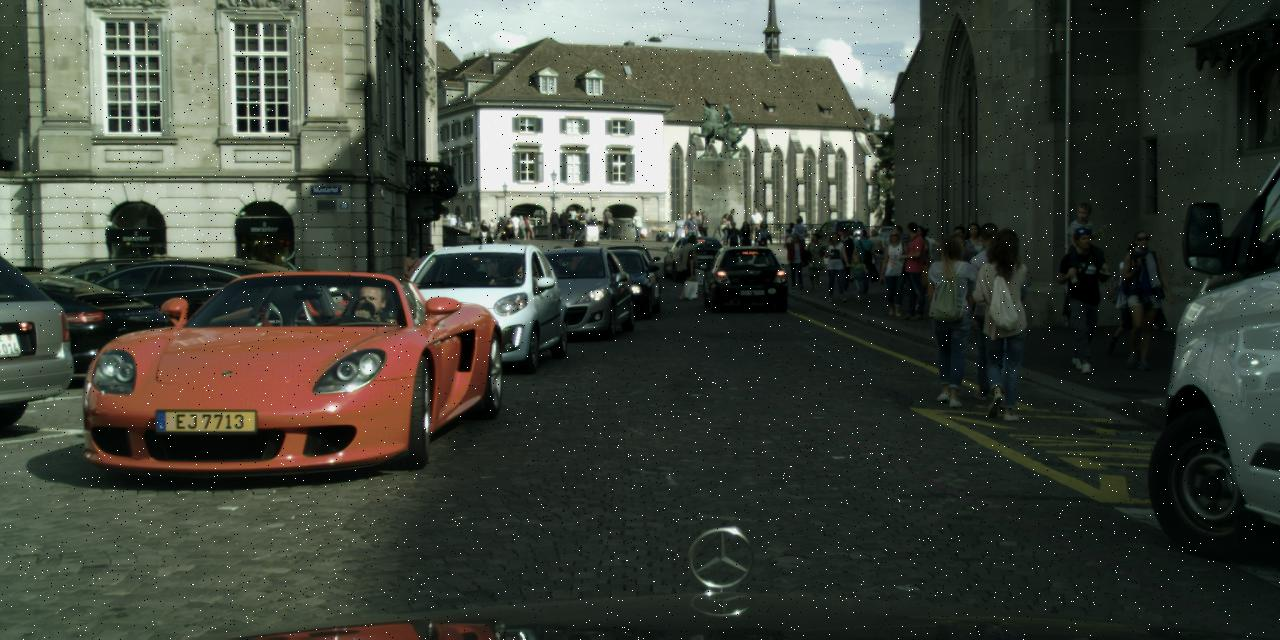ped: (964, 227, 1041, 416), (952, 221, 1026, 402), (915, 234, 985, 404), (1054, 226, 1112, 370), (1111, 230, 1167, 368), (1108, 240, 1154, 352), (892, 222, 932, 317), (955, 221, 993, 315), (877, 229, 911, 314), (945, 226, 975, 301), (820, 232, 850, 302), (906, 225, 934, 295), (851, 230, 878, 296), (678, 233, 704, 296), (886, 225, 912, 287), (803, 233, 826, 290), (402, 246, 424, 302), (785, 233, 807, 288), (419, 244, 440, 294), (682, 249, 702, 299), (753, 220, 773, 268), (864, 228, 884, 273), (790, 216, 809, 262), (736, 220, 754, 264), (849, 253, 866, 296), (783, 222, 800, 264), (502, 218, 518, 258), (690, 210, 711, 237), (446, 210, 471, 232), (726, 221, 740, 259), (723, 208, 738, 243), (548, 206, 561, 238), (686, 214, 699, 246), (748, 208, 761, 238), (586, 206, 598, 237), (601, 208, 613, 238), (630, 211, 642, 241), (718, 213, 730, 243), (566, 206, 578, 235), (558, 208, 568, 238), (674, 214, 685, 241), (581, 208, 591, 234), (524, 215, 534, 238), (510, 214, 519, 238), (486, 218, 496, 239), (516, 215, 525, 238), (478, 218, 487, 240), (471, 216, 478, 237), (686, 212, 689, 222)
